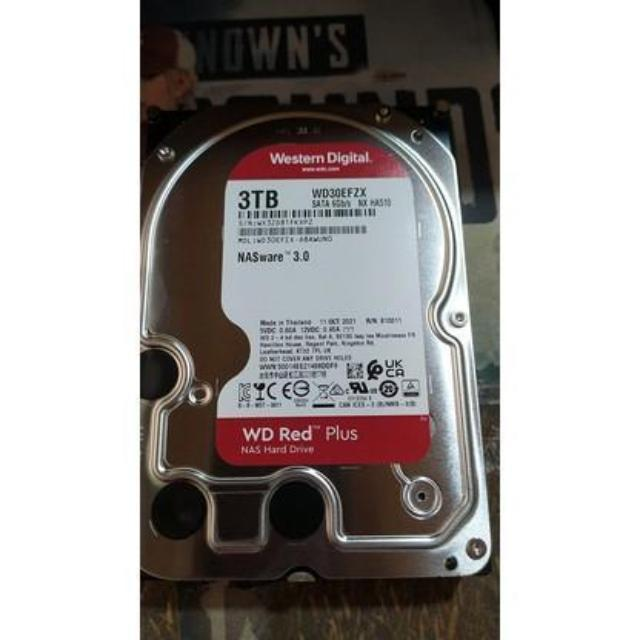DISK: (144, 111, 487, 577)
